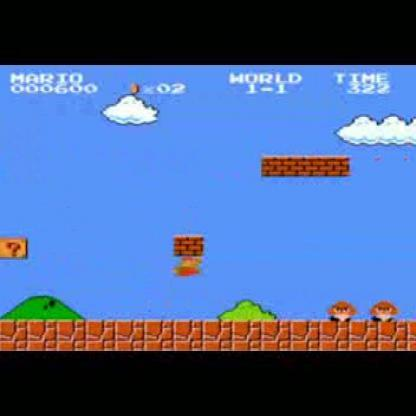Goomba: (327, 296, 358, 324), (369, 296, 399, 323)
